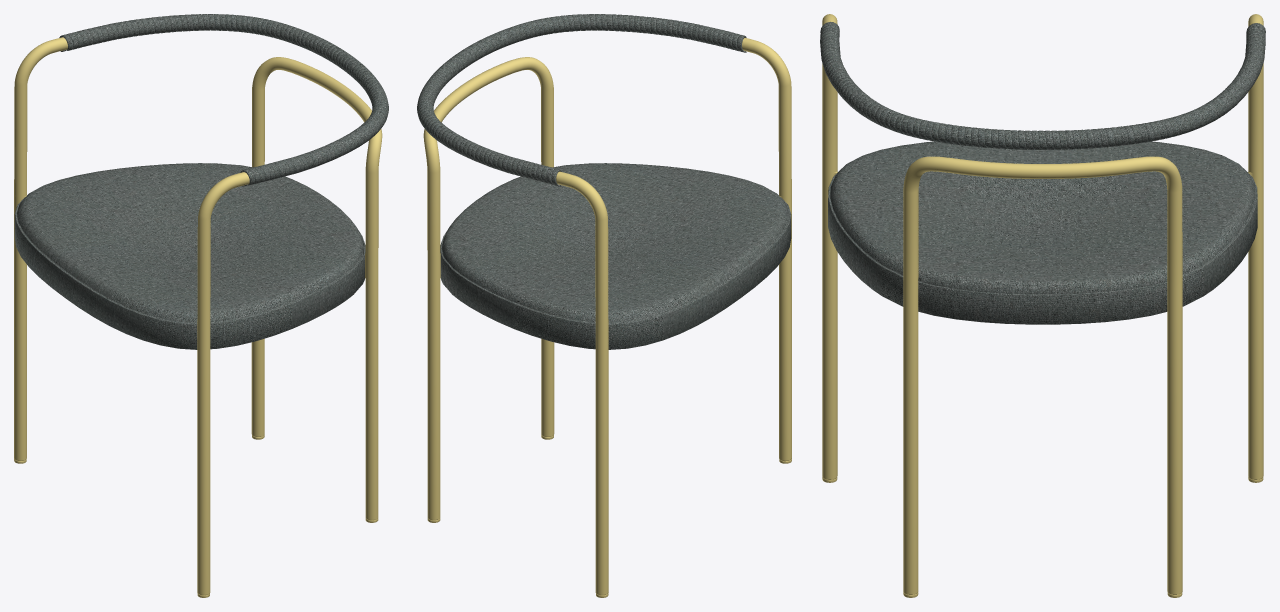
File: Sandalye.glb
3 views of the same model, side by side, from view 1: azimuth 30°, elevation 25°; view 2: azimuth 150°, elevation 25°; view 3: azimuth 270°, elevation 25° (orthographic). The views are drawn at different scales.
Parts seen in each view (by area): view 1: chair made of metal and wood; view 2: chair made of metal and wood; view 3: chair made of metal and wood.
Part boxes in pixels (bbox=[...]): chair made of metal and wood: bbox=[14, 14, 388, 597]; chair made of metal and wood: bbox=[417, 14, 791, 597]; chair made of metal and wood: bbox=[820, 14, 1265, 597].
Bounding box in the file's own units: 0.4699 × 0.6407 × 0.5369.
2 materials, 1 textured.
